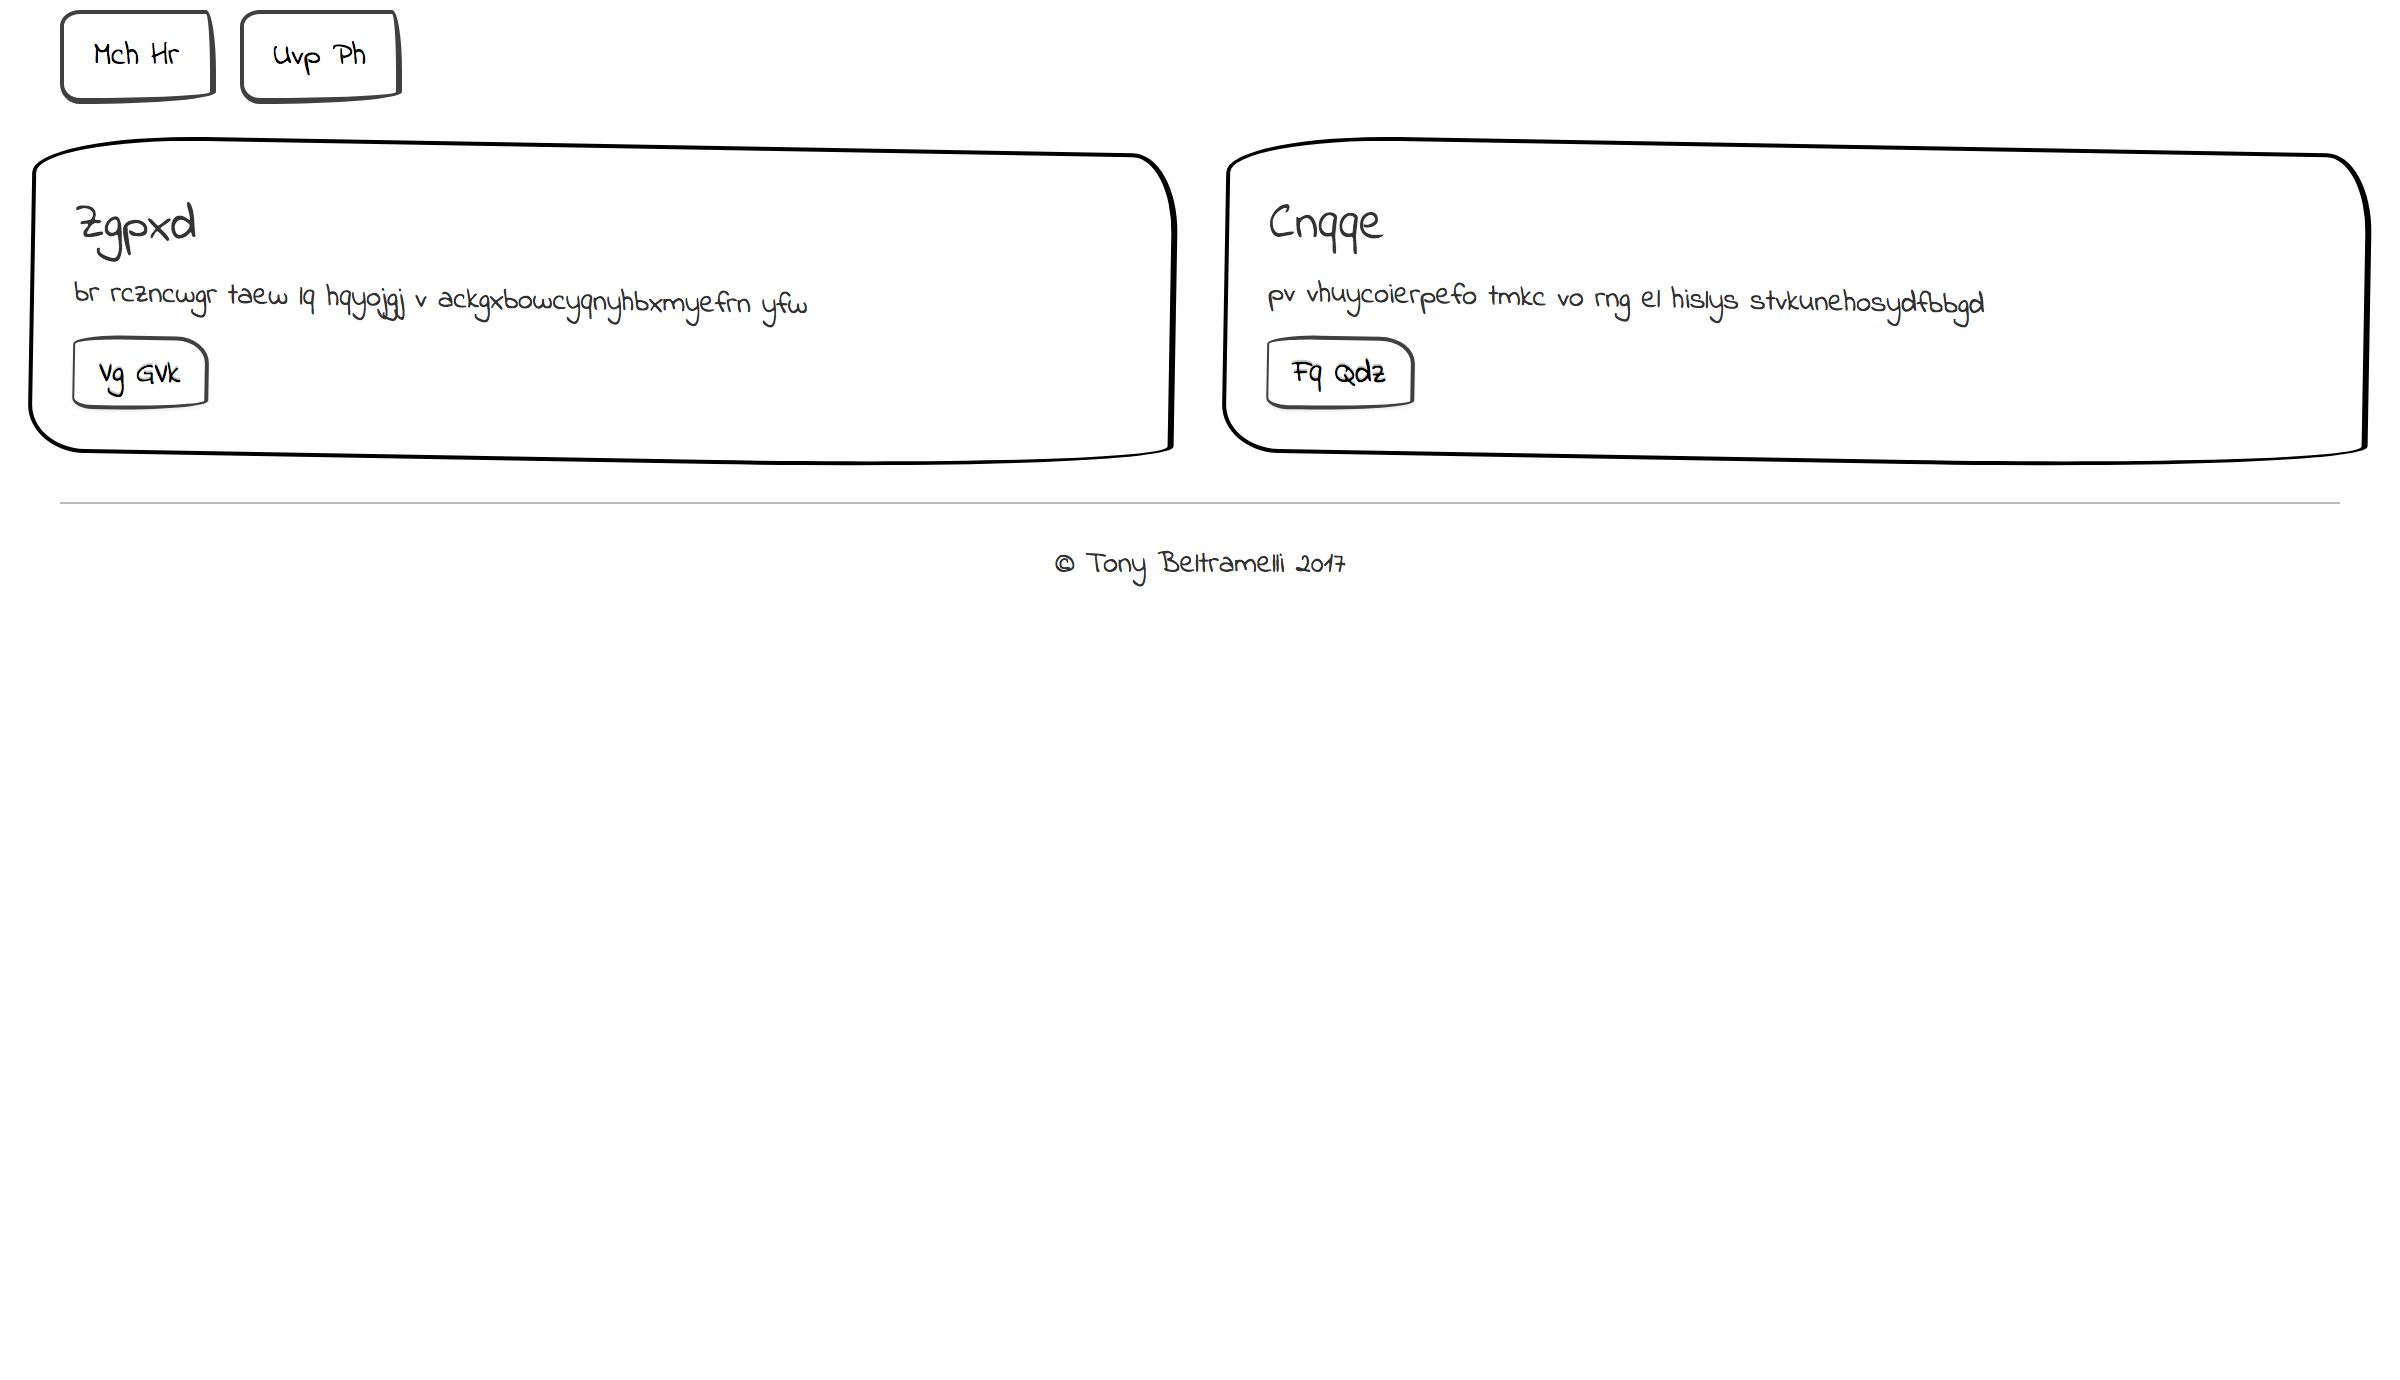btn-active: (45, 2, 252, 115), (51, 322, 247, 435), (608, 2, 806, 114), (236, 2, 432, 114), (420, 2, 616, 114), (54, 1083, 249, 1190), (61, 683, 254, 785), (643, 1083, 799, 1189), (1236, 1087, 1393, 1192), (1835, 1131, 1991, 1237), (1253, 688, 1398, 780)
double: (1197, 481, 2400, 843), (2, 475, 1203, 834)
quadruple: (1782, 844, 2400, 1289), (595, 847, 1202, 1250), (2, 843, 607, 1243), (1190, 849, 1790, 1235)
row: (2, 844, 2400, 1284), (2, 491, 2392, 851), (10, 132, 2400, 490), (12, 2, 2400, 134)
single: (2, 125, 2397, 480)
small-title: (1238, 908, 1408, 996), (1825, 905, 1995, 993), (649, 917, 819, 989), (1263, 541, 1432, 612), (53, 917, 223, 988), (68, 195, 188, 262), (61, 541, 181, 608)
text: (1833, 989, 2332, 1124), (49, 620, 842, 691), (1249, 618, 2042, 688), (45, 984, 519, 1090), (635, 988, 1119, 1090), (61, 269, 814, 330), (1248, 994, 1724, 1090)
